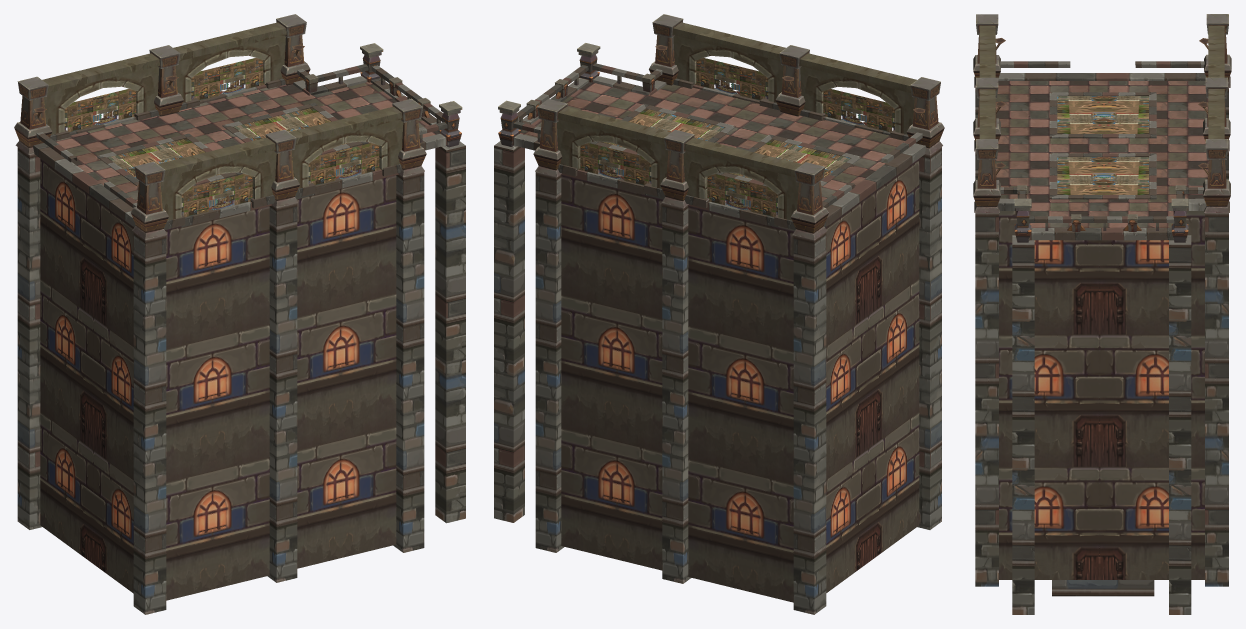
The model's file is pingtai_04.FBX.
3 renders of one model, left to right at view 1: azimuth 30°, elevation 25°; view 2: azimuth 150°, elevation 25°; view 3: azimuth 270°, elevation 25°, orthographic.
Visible parts, largest first — view 1: 对象23, 对象121, 对象113, Plane14, 对象118, Plane02, Plane16, Plane84, Plane85, Plane62, Plane65, Box283 (+1 smaller); view 2: 对象23, 对象121, 对象113, Plane14, 对象118, Plane17, Plane18, Plane82, Plane83, Plane62, Plane65, Box283 (+1 smaller); view 3: 对象23, 对象121, Plane14, 对象118, 对象113, Plane62, Plane65, Box283, 对象122.
Part boxes in pixels (x1,y1,x2,y2): 对象23: (40,158,396,600); 对象121: (17,64,465,614); 对象113: (42,22,403,220); Plane14: (55,82,439,215); 对象118: (14,14,426,239); Plane02: (64,89,136,132); Plane16: (191,58,264,100); Plane84: (181,174,252,217); Plane85: (308,143,380,185); Plane62: (108,138,224,180); Plane65: (234,107,350,144); Box283: (360,43,462,147); 对象23: (561,159,919,602); 对象121: (494,63,941,614); 对象113: (557,22,916,220); Plane14: (520,82,904,215); 对象118: (533,14,944,240); Plane17: (695,58,768,100); Plane18: (823,89,894,132); Plane82: (579,143,651,185); Plane83: (707,174,777,217); Plane62: (729,139,850,179); Plane65: (601,108,724,148); Box283: (498,43,600,146); 对象23: (999,211,1204,579); 对象121: (975,61,1228,614); Plane14: (995,81,1208,227); 对象118: (973,14,1231,212); 对象113: (979,25,1224,138); Plane62: (1057,96,1148,134); Plane65: (1057,157,1148,194); Box283: (1014,198,1188,242); 对象122: (1017,185,1185,231).
Bounding box in the file's own units: 1625 × 2095 × 1074.
